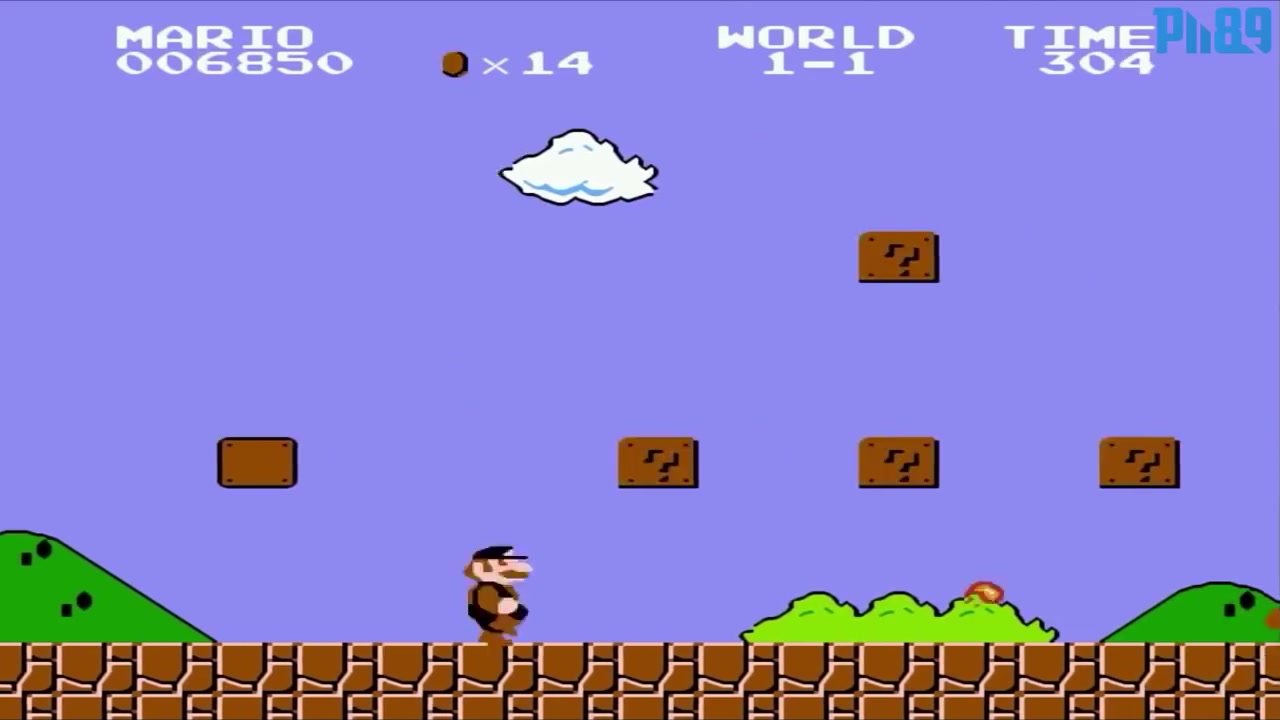mario: (451, 535, 544, 644)
